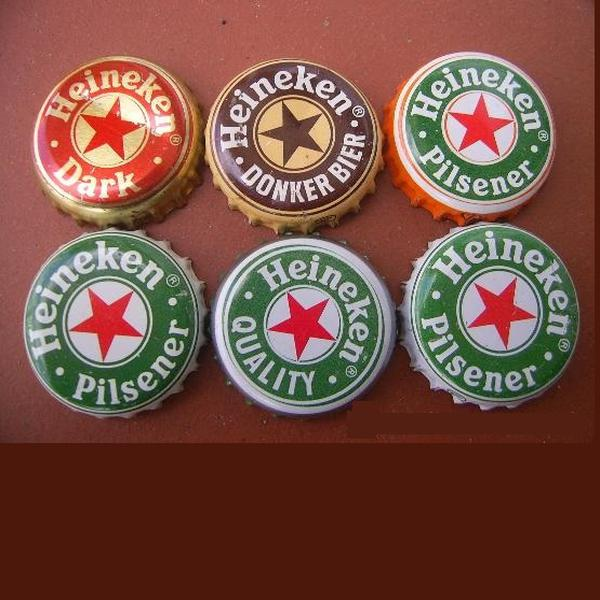heineken: (15, 227, 205, 425), (396, 220, 583, 411), (207, 236, 391, 419), (387, 52, 558, 212)
